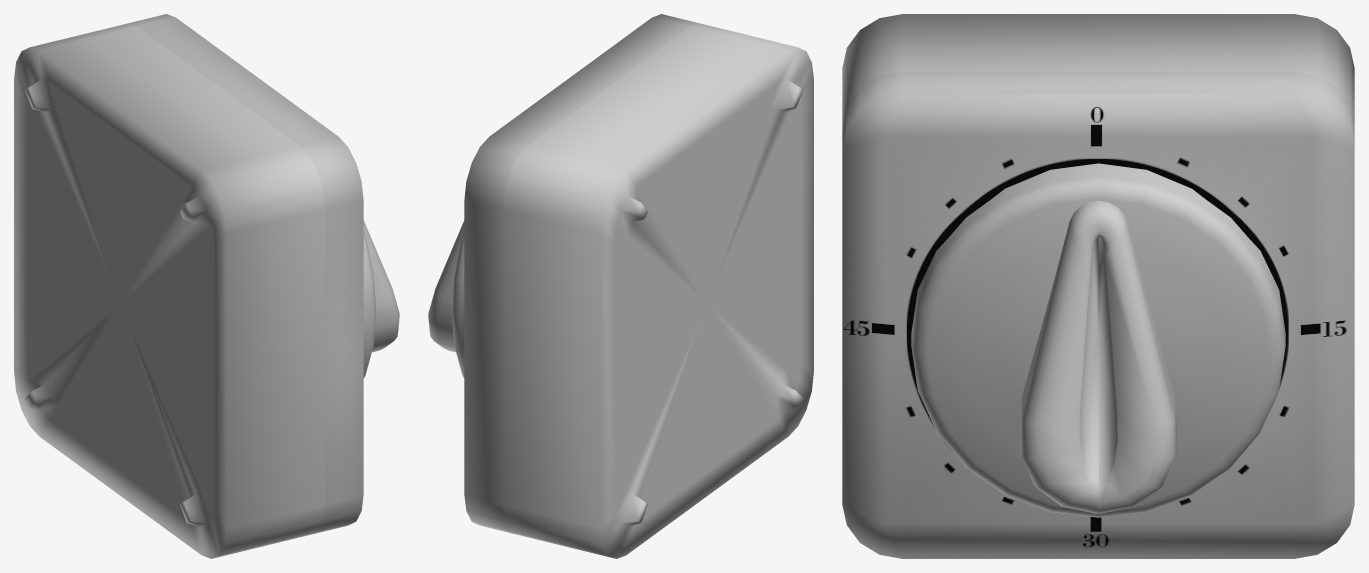
Rendered from Timer.fbx.
The picture shows the model from 3 angles, left to right: view 1: azimuth 30°, elevation 25°; view 2: azimuth 150°, elevation 25°; view 3: azimuth 270°, elevation 25°; orthographic projection. The views are drawn at different scales.
Visible parts, largest first — view 1: Timer, TImer_Knob; view 2: Timer, TImer_Knob; view 3: Timer, TImer_Knob.
Part boxes in pixels (bbox=[...]): Timer: bbox=[14, 14, 363, 558]; TImer_Knob: bbox=[363, 220, 399, 377]; Timer: bbox=[464, 14, 813, 558]; TImer_Knob: bbox=[428, 220, 464, 377]; Timer: bbox=[842, 14, 1354, 558]; TImer_Knob: bbox=[911, 163, 1285, 517].
Size of the model in its own units: 148 by 200 by 200.
